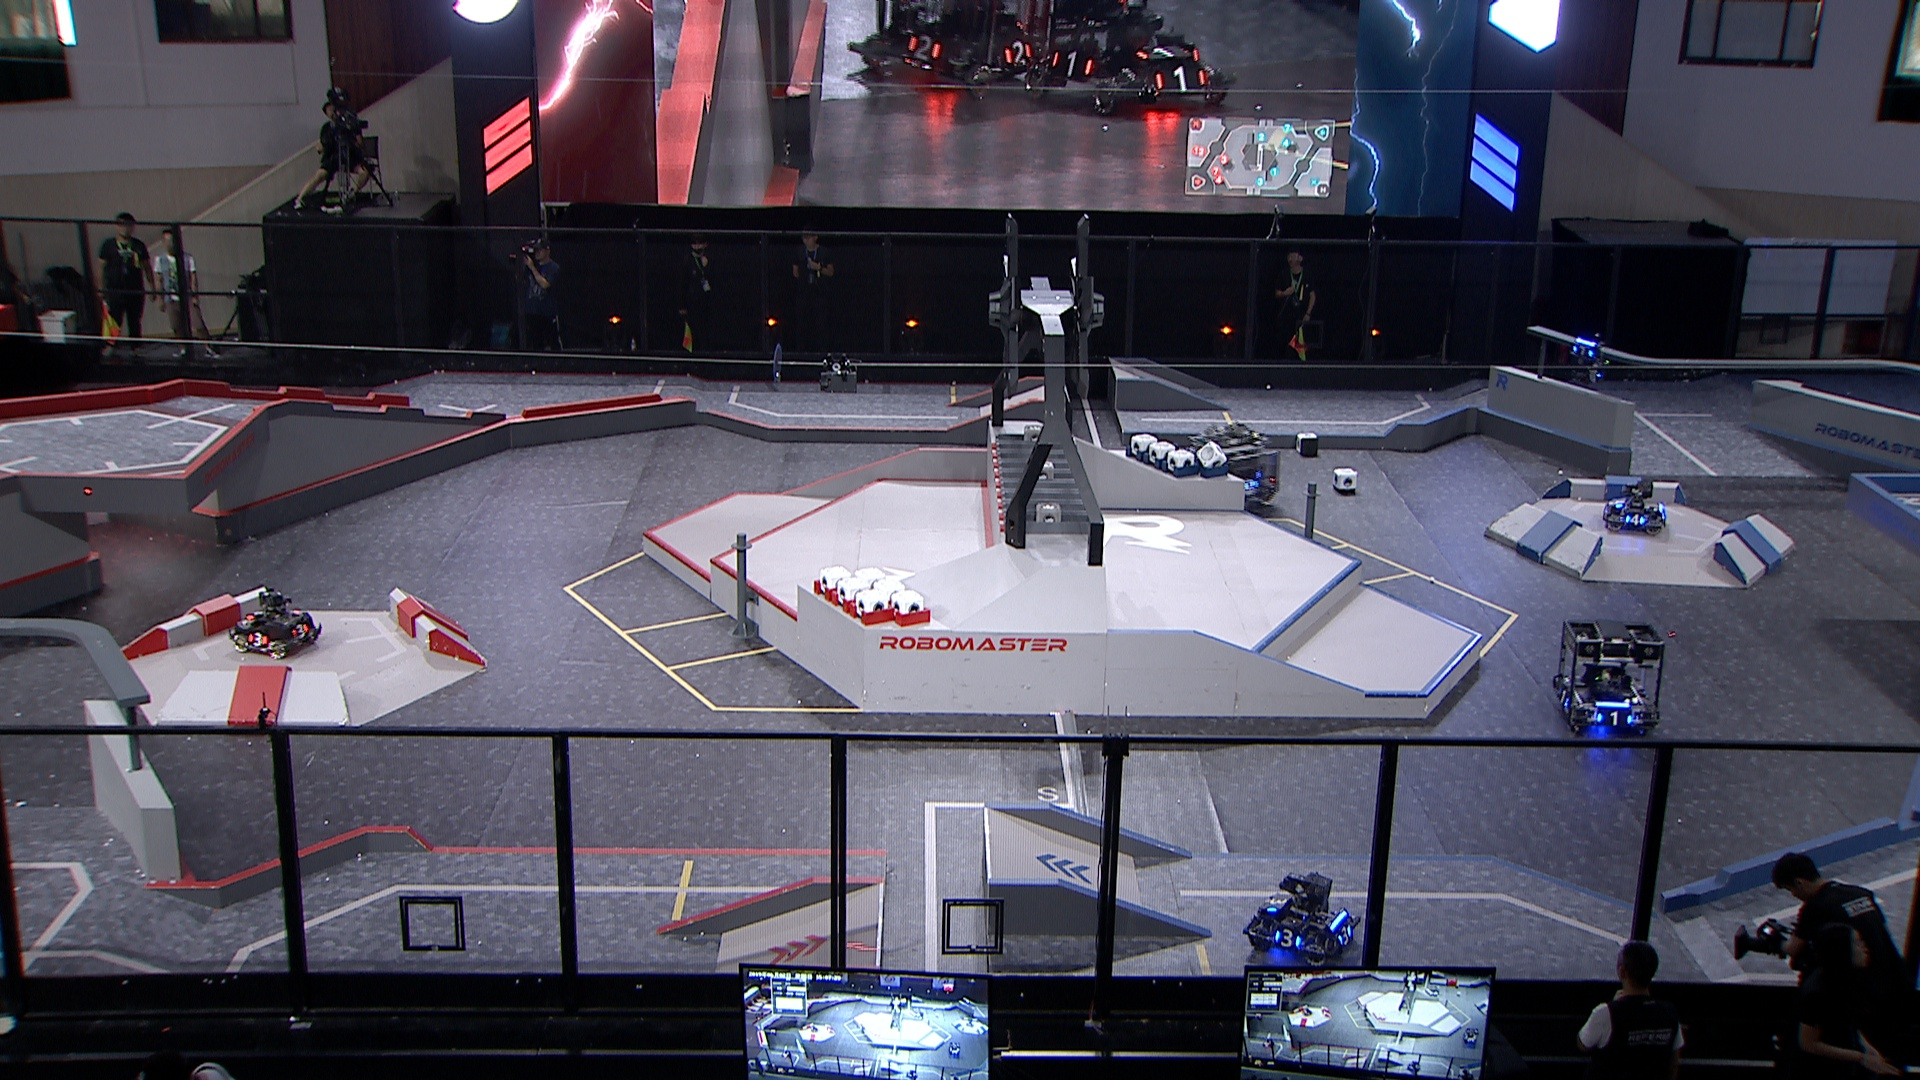armor: (1596, 709, 1634, 728), (1271, 928, 1302, 949), (1266, 893, 1287, 915), (289, 622, 314, 640), (1557, 687, 1575, 711), (244, 632, 269, 647), (1569, 344, 1596, 357), (1625, 513, 1647, 527), (243, 607, 262, 622), (1338, 924, 1353, 945), (1240, 477, 1261, 491)
car: (1551, 618, 1664, 735), (1242, 869, 1362, 971), (1187, 422, 1280, 513), (225, 585, 320, 661), (1600, 479, 1667, 537)
ignore: (847, 0, 1069, 98)
watcher: (1567, 330, 1607, 384)
